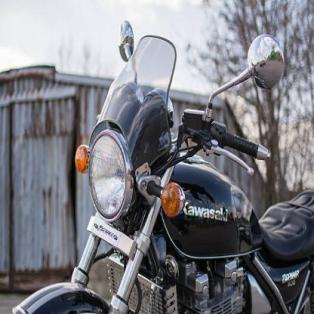Motocicleta: (13, 23, 313, 313)
